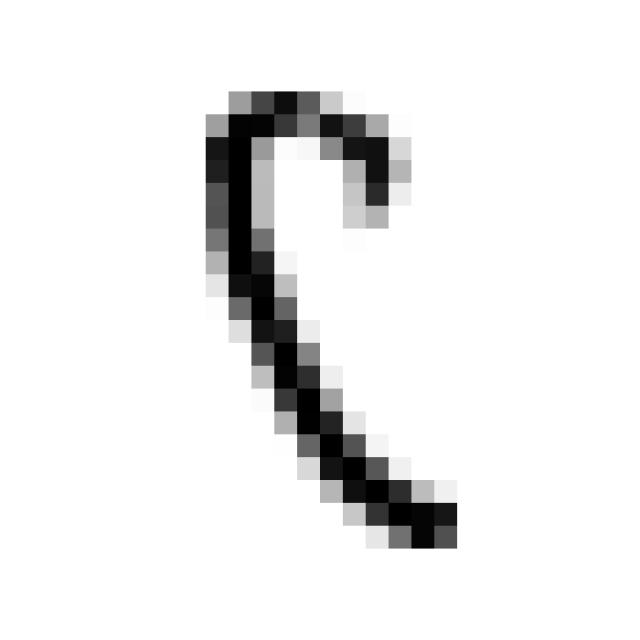2 -two-: (185, 64, 476, 576)
